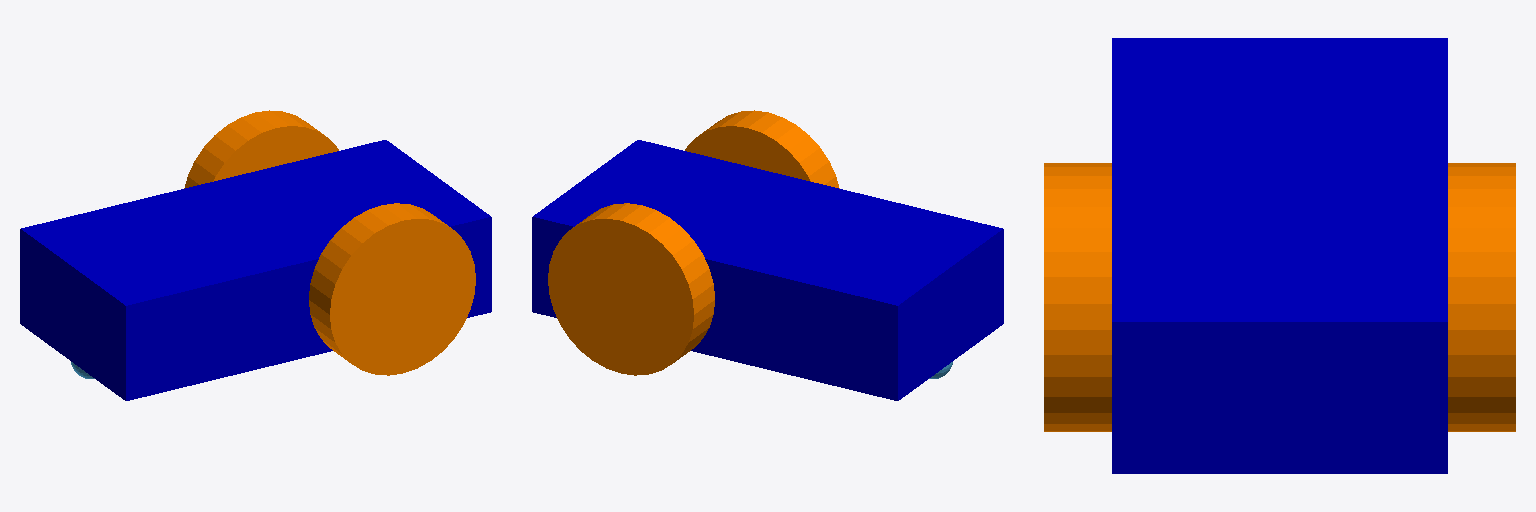
robot.urdf — gopigo3:
<?xml version='1.0'?>
<robot name="gopigo3">

<!-- Materials -->
  <material name="blue">
    <color rgba="0 0 0.8 1"/>
  </material>

  <material name="white">
    <color rgba="1 1 1 1"/>
  </material>

  <material name="red">
    <color rgba="1 0 0 1"/>
  </material>

  <material name="green">
    <color rgba="0 1 0 1"/>
  </material>

  <material name="yellow">
    <color rgba="1 1 0 1"/>
  </material>

  <material name="orange">
    <color rgba="1 0.54 0 1"/>
  </material>

  <!-- Dummy link without inertia is needed -->
  <link name="base_footprint"/>
  <joint name="base_link_joint" type="fixed">
    <origin rpy="0 0 0" xyz="0 0 0.05"/>
    <parent link="base_footprint"/>
    <child link="base_link"/>
  </joint>
<!-- Base Link -->
  <link name="base_link">
    <visual>
      <origin xyz="0 0 0" rpy="0 0 0" />
      <geometry>
          <box size="0.5 0.25 0.125"/>
      </geometry>
      <material name="blue"/>
    </visual>
    <collision>
      <origin xyz="0 0 0" rpy="0 0 0" />
      <geometry>
          <box size="0.5 0.25 0.125"/>
      </geometry>
    </collision>
    <inertial>
      <origin xyz="0 0 0" rpy="0 0 0" />
      <mass value="5"/>
      <inertia ixx="0.13" ixy="0.0" ixz="0.0" iyy="0.21" iyz="0.0" izz="0.13"/>
    </inertial>
    <!-- Caster attachment -->
    <visual name="caster_visual">
      <origin xyz="-0.225 0 -0.0625" rpy="0 0 0" />
      <geometry>
        <sphere radius="0.025" />
      </geometry>
    </visual>
    <collision name="caster_collision">
      <origin xyz="-0.225 0 -0.0625" rpy="0 0 0" />
      <geometry>
        <sphere radius="0.025" />
      </geometry>
    </collision>
    <inertial name="caster_inertia">
      <origin xyz="-0.225 0 -0.0625" rpy="0 0 0" />
      <mass value="0.15"/>
      <inertia ixx="0.0001" ixy="0.0" ixz="0.0" iyy="0.0001" iyz="0.0" izz="0.0001"/>
    </inertial>
  </link>
<!-- Right Wheel -->
  <link name="right_wheel">
    <visual>
      <origin xyz="0 0 0" rpy="1.570795 0 0" />
      <geometry>
          <cylinder length="0.05" radius="0.1" />
      </geometry>
      <material name="orange"/>
    </visual>
    <!-- Right Wheel collision, mass and inertia -->
    <collision>
      <origin xyz="0 0 0" rpy="1.570795 0 0" />
      <geometry>
          <cylinder length="0.05" radius="0.1" />
      </geometry>
    </collision>
    <inertial>
      <origin xyz="0 0 0" rpy="1.570795 0 0" />
      <mass value="0.15"/>
      <inertia ixx="0.01" ixy="0.0" ixz="0.0" iyy="0.005" iyz="0.0" izz="0.005"/>
    </inertial>
  </link>
<!-- Right Wheel JOINT base_link -->
  <joint name="joint_right_wheel" type="continuous">
    <parent link="base_link"/>
    <child link="right_wheel"/>
    <origin xyz="0.1 -0.15 0.0125" rpy="0 0 0" /> 
    <axis xyz="0 1 0" />
  </joint>
<!-- Left Wheel JOINT base_link -->
  <joint name="joint_left_wheel" type="continuous">
    <parent link="base_link"/>
    <child link="left_wheel"/>
    <origin xyz="0.1 0.15 0.0125" rpy="0 0 0" /> 
    <axis xyz="0 1 0"/>
  </joint>
<!-- Left Wheel -->
  <link name="left_wheel">
    <visual>
      <origin xyz="0 0 0" rpy="1.570795 0 0" />
      <geometry>
          <cylinder length="0.05" radius="0.1" />
      </geometry>
      <material name="orange"/>
    </visual>
    <!-- Left Wheel collision, mass and inertia -->
    <collision>
      <origin xyz="0 0 0" rpy="1.570795 0 0" />
      <geometry>
          <cylinder length="0.05" radius="0.1" />
      </geometry>
    </collision>
    <inertial>
      <origin xyz="0 0 0" rpy="1.570795 0 0" />
      <mass value="0.15"/>
      <inertia ixx="0.01" ixy="0.0" ixz="0.0" iyy="0.005" iyz="0.0" izz="0.005"/>
    </inertial>

  </link>
<!-- 2D Camera as a mesh of actual PiCamera -->
  <link name="camera">
    <visual>
      <origin xyz="0 0 0" rpy="0 1.570795 0" />
      <geometry>
        <mesh filename="package://gopigo3_description/meshes/piCamera.stl" scale="0.0025 0.0025 0.0025"/>
      </geometry>
      <material name="yellow"/>
    </visual>
    
    <collision>
      <origin xyz="0 0 0" rpy="0 1.570795 0" />
      <geometry>
        <box size="0.075 0.075 0.025"/>
      </geometry>
    </collision>

    <inertial>
      <origin xyz="0 0 0" rpy="0 1.570795 0" />
      <mass value="1e-3" />
      <inertia ixx="1e-6" ixy="0" ixz="0" iyy="1e-6" iyz="0" izz="1e-6" />
    </inertial>
  </link>
<!-- 2D Camera JOINT base_link -->
  <joint name="joint_camera" type="fixed">
    <axis xyz="0 0 1" />
    <origin xyz="0.25 0 0.025" rpy="0 0 0"/>
    <parent link="base_link"/>
    <child link="camera"/>
  </joint>

<!-- LIDAR base_scan -->
  <link name="base_scan">
    <visual name="sensor_body">
      <origin xyz="0 0 0.04" rpy="0 0 0" />
      <geometry>
        <mesh filename="package://gopigo3_description/meshes/X4.stl" scale="0.002 0.002 0.002"/> 
      </geometry>
      <material name="yellow"/>
    </visual>

    <collision>
      <origin xyz="0 0 0.04" rpy="0 0 0"/>
      <geometry>
        <cylinder length="0.01575" radius="0.0275"/>
      </geometry>
    </collision>

    <inertial>
      <origin xyz="0 0 0.4" rpy="0 0 0"/>
      <mass value="0.057" />
      <inertia ixx="0.001" ixy="0.0" ixz="0.0"
               iyy="0.001" iyz="0.0"
               izz="0.001" />
    </inertial>
  </link>
<!-- LIDAR base_scan JOINT base_link -->
  <joint name="scan_joint" type="fixed">
    <axis xyz="0 0 1" />
    <origin xyz="0 0 0.15" rpy="0 0 0"/>
    <parent link="base_link"/>
    <child link="base_scan"/>
  </joint>

<!-- GAZEBO MATERIAL TAGS (colors for sensors under <sensor> tags) -->
  <gazebo reference="base_link">
    <material>Gazebo/Blue</material>
    <pose>0 0 1.5 0 0 0</pose>
  </gazebo>

  <gazebo reference="right_wheel">
    <material>Gazebo/White</material>
  </gazebo>

  <gazebo reference="left_wheel">
    <material>Gazebo/White</material>
  </gazebo>

<!-- Differential Drive Controller -->
  <!-- https://answers.ros.org/question/236122/diffdrive-odometry-source-is-missing -->
  <gazebo>
    <plugin filename="libgazebo_ros_diff_drive.so" name="differential_drive_controller">
      <alwaysOn>true</alwaysOn>
      <updateRate>20</updateRate>
      <leftJoint>joint_left_wheel</leftJoint>
      <rightJoint>joint_right_wheel</rightJoint>
      <wheelSeparation>0.25</wheelSeparation>
      <wheelDiameter>0.2</wheelDiameter>
      <torque>0.1</torque>
      <commandTopic>cmd_vel</commandTopic>
      <odometryTopic>odom</odometryTopic>
      <odometryFrame>odom</odometryFrame>
      <robotBaseFrame>base_link</robotBaseFrame>
      <odometrySource>1</odometrySource>
      <legacyMode>false</legacyMode>
      <publishTf>1</publishTf>
      <rosDebugLevel>na</rosDebugLevel>
      <publishWheelTF>false</publishWheelTF>
      <publishOdomTF>true</publishOdomTF>
      <publishWheelJointState>false</publishWheelJointState>
      <wheelAcceleration>0</wheelAcceleration>
      <wheelTorque>5</wheelTorque>
    </plugin>
  </gazebo>

<!-- 2D Camera controller -->
  <gazebo reference="camera">
    <sensor type="camera" name="camera1">
      <update_rate>30.0</update_rate>
      <camera name="front">
        <horizontal_fov>1.3962634</horizontal_fov>
        <image>
          <width>800</width>
          <height>800</height>
          <format>R8G8B8</format>
        </image>
        <clip>
          <near>0.02</near>
          <far>300</far>
        </clip>
      </camera>
      <plugin name="camera_controller" filename="libgazebo_ros_camera.so">
        <alwaysOn>true</alwaysOn>
        <updateRate>0.0</updateRate>
        <cameraName>gopigo/camera1</cameraName>
        <imageTopicName>image_raw</imageTopicName>
        <cameraInfoTopicName>camera_info</cameraInfoTopicName>
        <frameName>camera</frameName>
        <hackBaseline>0.07</hackBaseline>
        <distortionK1>0.0</distortionK1>
        <distortionK2>0.0</distortionK2>
        <distortionK3>0.0</distortionK3>
        <distortionT1>0.0</distortionT1>
        <distortionT2>0.0</distortionT2>
      </plugin>
    </sensor>
  </gazebo>

<!-- Laser Distance Sensor YDLIDAR X4 controller-->
  <gazebo reference="base_scan">
    <sensor type="ray" name="lds_lfcd_sensor">
      <pose>0 0 0 0 0 0</pose>
      <visualize>false</visualize>
      <update_rate>5</update_rate>
      <ray>
        <scan>
          <horizontal>
            <samples>720</samples>
            <resolution>0.5</resolution>
            <min_angle>0.0</min_angle>
            <max_angle>6.28319</max_angle>
          </horizontal>
        </scan>
        <range>
          <min>0.12</min>
          <max>10</max>
          <resolution>0.015</resolution>
        </range>
        <noise>
          <type>gaussian</type>
          <!-- Noise parameters based on published spec for YDLIDAR X4
               is 1.5% at half range 4m (= 60mm, "+-160mm" accuracy at max. range 8m).
               A mean of 0.0m and stddev of 0.020m will put 99.7% of samples
               within 0.16m of the true reading. -->
          <mean>0.0</mean>
          <stddev>0.02</stddev>
        </noise>
      </ray>
      <plugin name="gazebo_ros_lds_lfcd_controller" filename="libgazebo_ros_laser.so">
        <!-- topicName>/gopigo/scan</topicName -->
        <topicName>scan</topicName>
        <frameName>base_scan</frameName>
      </plugin>
    </sensor>
  </gazebo>

</robot>

--- Render facts (derived) ---
Views: 3 orthographic renders of the robot side by side, from view 1: azimuth 30°, elevation 25°; view 2: azimuth 150°, elevation 25°; view 3: azimuth 270°, elevation 25°.
Robot: gopigo3 — 6 links, 5 joints (2 continuous, 3 fixed); root link base_footprint; default pose: all joints at 0.
Visible links, largest first — view 1: base_link, right_wheel, left_wheel; view 2: base_link, left_wheel, right_wheel; view 3: base_link, right_wheel, left_wheel.
Boxes of the visible links, x1,y1,x2,y2 form: base_link: [20, 140, 491, 400]; right_wheel: [309, 203, 475, 375]; left_wheel: [184, 110, 338, 188]; base_link: [532, 140, 1003, 400]; left_wheel: [548, 203, 714, 375]; right_wheel: [685, 110, 839, 188]; base_link: [1112, 38, 1447, 473]; right_wheel: [1044, 163, 1111, 431]; left_wheel: [1448, 163, 1515, 431].
Bounding box of the posed robot: 0.5 × 0.35 × 0.2 m (x, y, z).
Meshes: 2 distinct files referenced, 0 mesh visuals loaded (none loaded); not drawn: 2 (reference not matched to a file when rendering).
